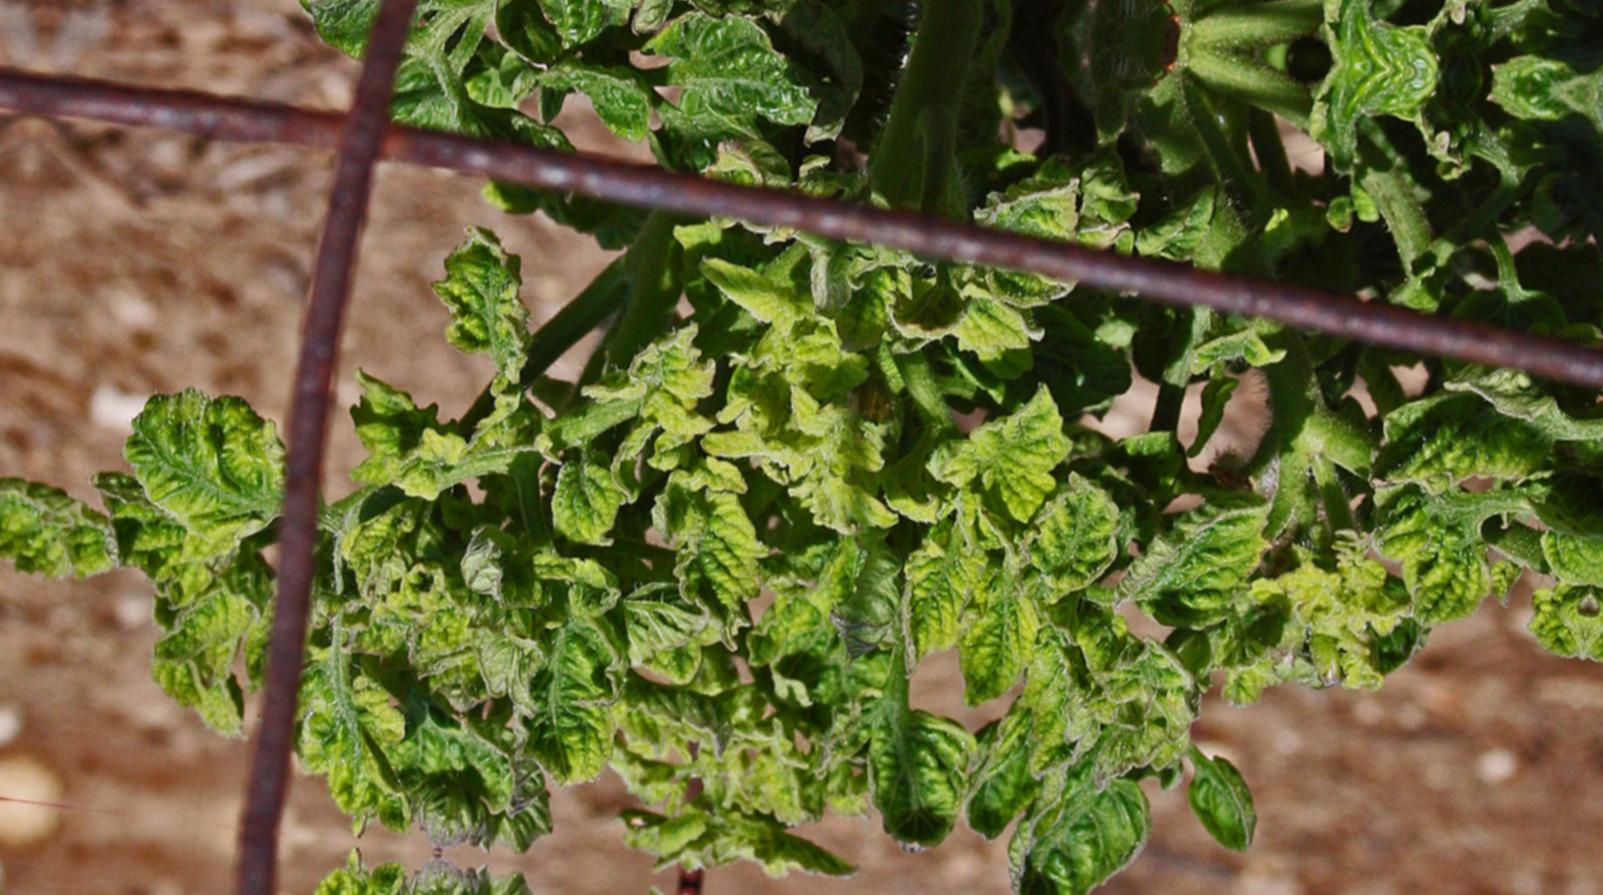Tomato leaf yellow virus: (105, 343, 312, 548), (1366, 356, 1603, 519), (816, 683, 997, 885), (602, 0, 841, 151), (1101, 463, 1294, 638), (967, 740, 1180, 895), (639, 419, 778, 652), (292, 636, 439, 831), (123, 531, 272, 718), (498, 590, 633, 793), (990, 455, 1136, 635), (931, 360, 1083, 516), (417, 215, 552, 391), (770, 371, 907, 539), (947, 525, 1049, 740), (881, 488, 999, 665), (338, 373, 489, 510), (879, 264, 1042, 374), (1306, 61, 1450, 184), (0, 461, 128, 599), (1376, 533, 1509, 648), (476, 0, 646, 86), (517, 436, 632, 548), (677, 243, 815, 329), (1519, 513, 1600, 591)
